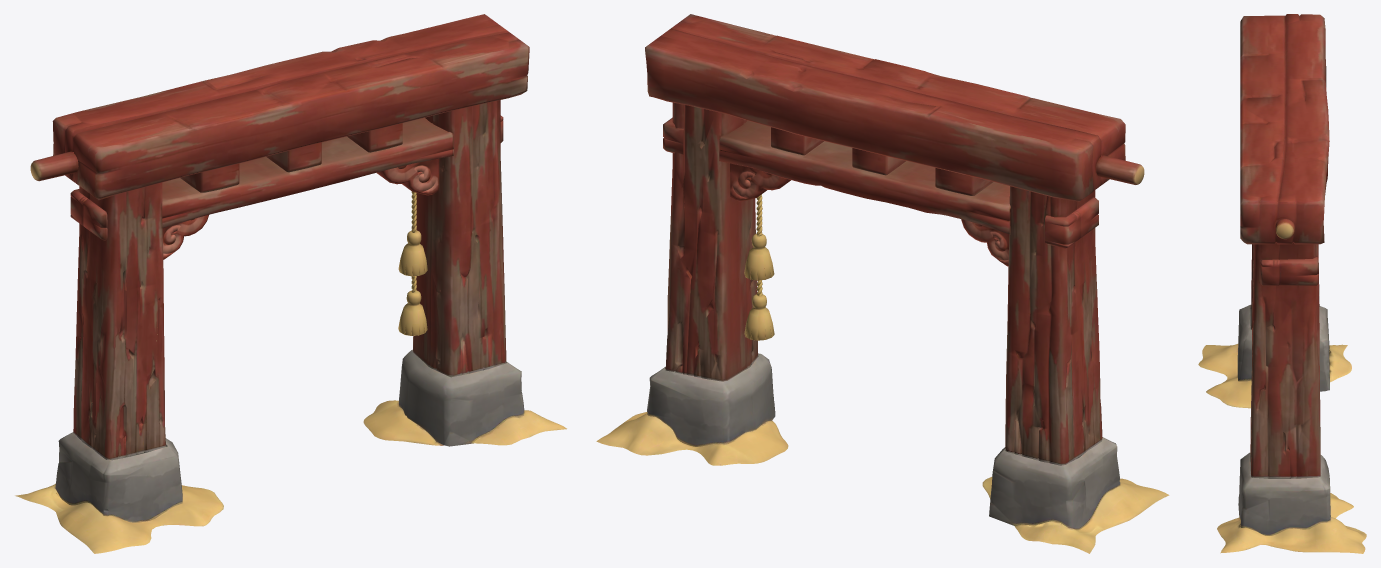
Rendered from SM_Tripo_DesertTimberGate.glb.
The picture shows the model from 3 angles, left to right: view 1: azimuth 30°, elevation 25°; view 2: azimuth 150°, elevation 25°; view 3: azimuth 270°, elevation 25°; orthographic projection. The views are drawn at different scales.
Parts seen in each view (by area): view 1: SM_Tripo_DesertTimberGate_LOD0; view 2: SM_Tripo_DesertTimberGate_LOD0; view 3: SM_Tripo_DesertTimberGate_LOD0.
Part boxes in pixels (bbox=[...]): SM_Tripo_DesertTimberGate_LOD0: bbox=[15, 14, 566, 553]; SM_Tripo_DesertTimberGate_LOD0: bbox=[596, 14, 1169, 553]; SM_Tripo_DesertTimberGate_LOD0: bbox=[1198, 14, 1366, 553].
Size of the model in its own units: 9.16 by 6.8 by 3.02.
1 material, 1 textured.
